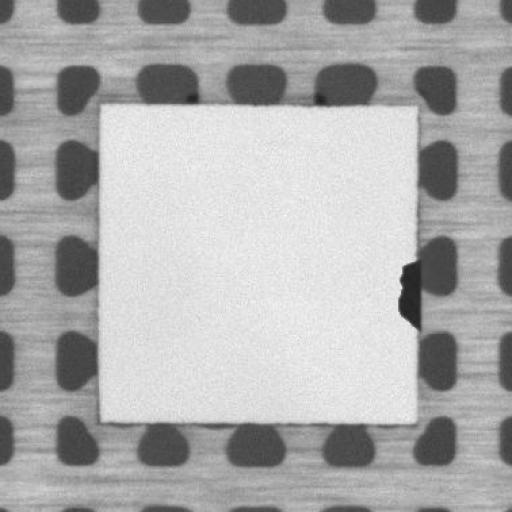DIE_BROKEN: (392, 255, 422, 327)
